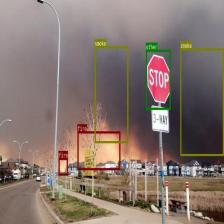fire: (77, 131, 120, 170), (58, 158, 68, 174)
smoke: (180, 48, 224, 156), (95, 46, 128, 142)
